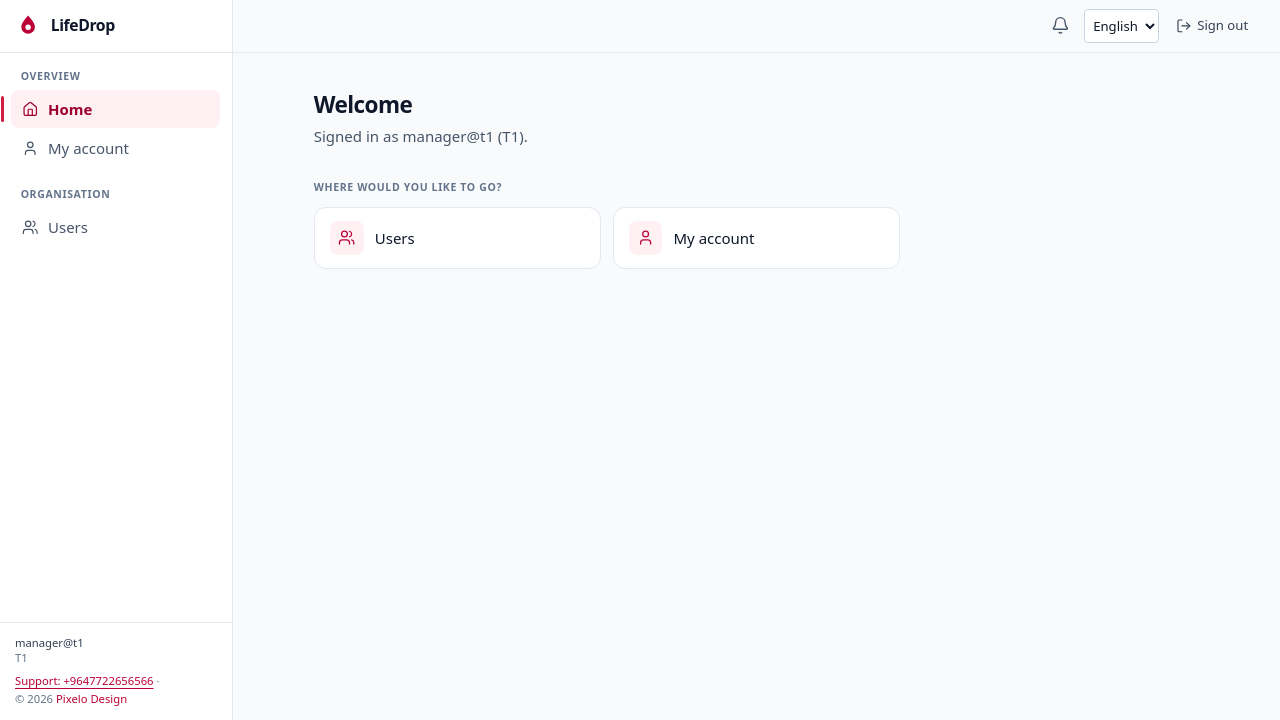
Scenario: panel management screens › shows no account form to someone who cannot give roles
Click the button "Users".
click(116, 227)  # box [11,209,220,246]
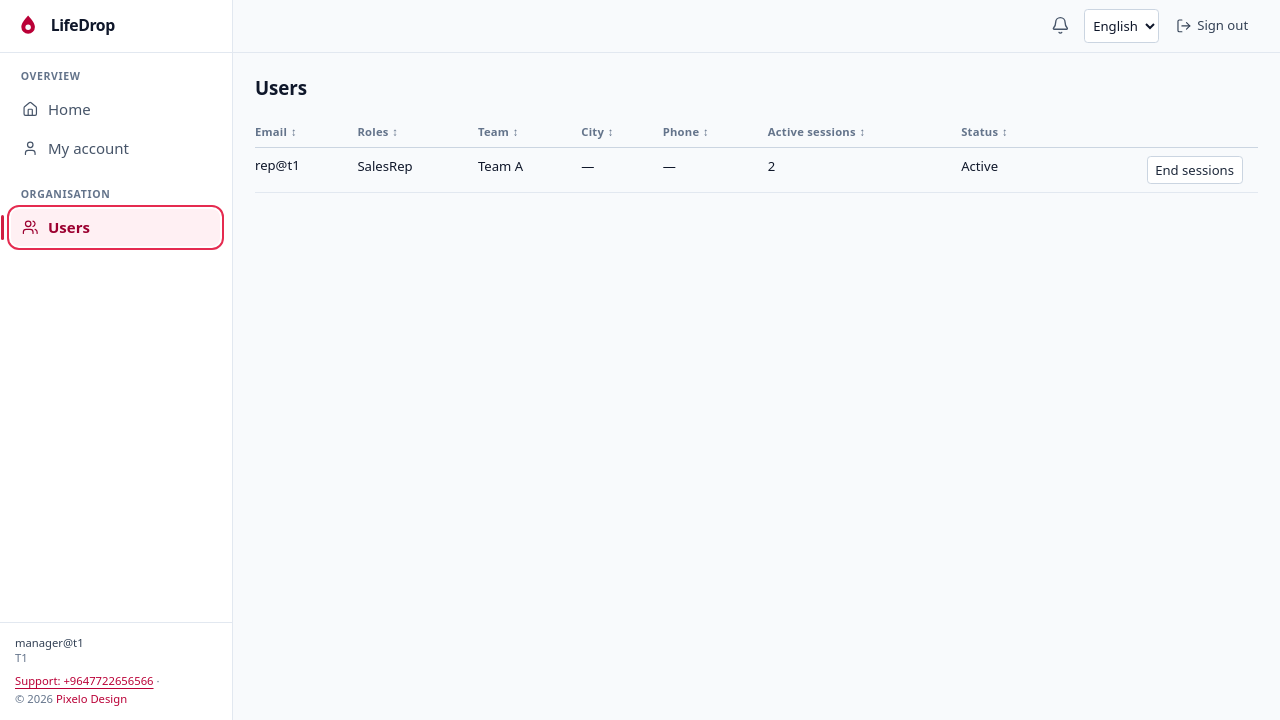
Check: the text "rep@t1" is shown, box [255,148,357,192]
